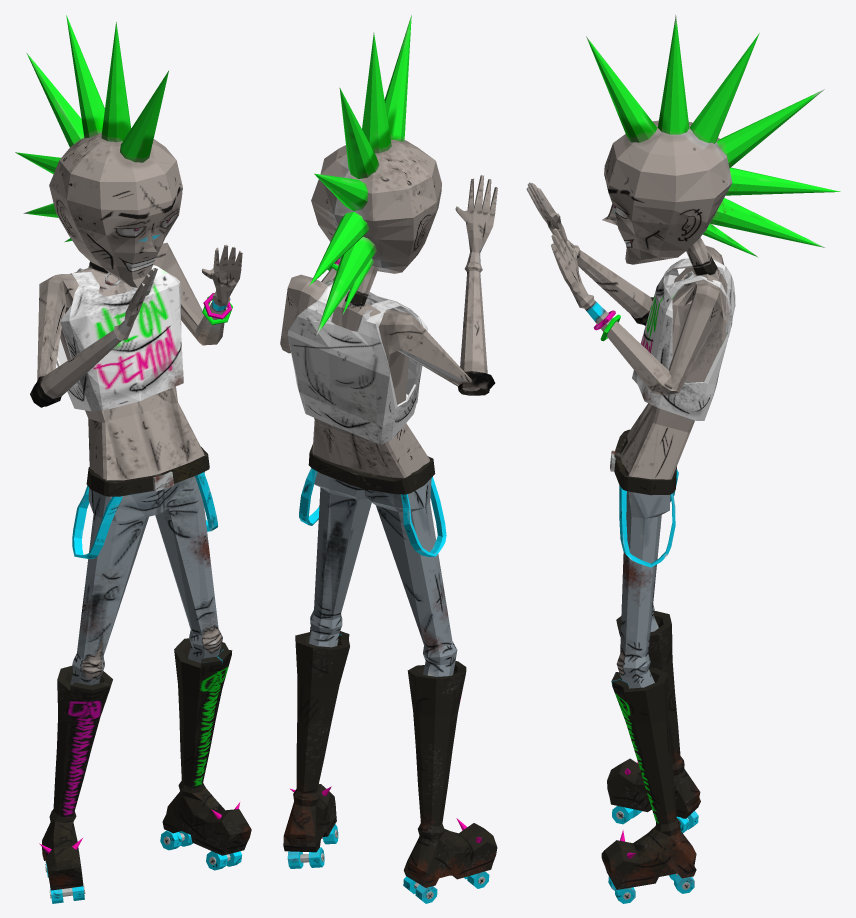
Rendered from punkAnimation_000022.obj.
3 views of the same model, side by side, from view 1: azimuth 30°, elevation 25°; view 2: azimuth 150°, elevation 25°; view 3: azimuth 270°, elevation 25° (orthographic).
Visible parts, largest first — view 1: Cube.004_Cube.003; view 2: Cube.004_Cube.003; view 3: Cube.004_Cube.003.
Boxes of the visible parts, x1,y1,x2,y2 form: Cube.004_Cube.003: [15, 15, 251, 903]; Cube.004_Cube.003: [280, 15, 497, 903]; Cube.004_Cube.003: [526, 15, 840, 903].
Size of the model in its own units: 1.91 by 7.55 by 2.55.
